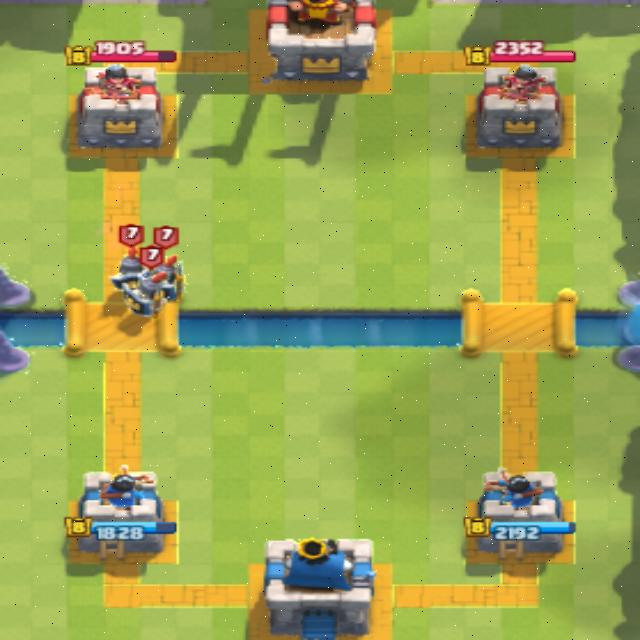EGuard: (148, 259, 185, 294), (120, 288, 161, 319), (110, 258, 140, 280)
EKingTower: (249, 0, 390, 95)
EnemyPrincessTower: (468, 70, 575, 155), (72, 69, 171, 158)
OwnKingTower: (249, 539, 378, 638)
OwnPrincessTower: (470, 476, 575, 564), (76, 479, 173, 561)
